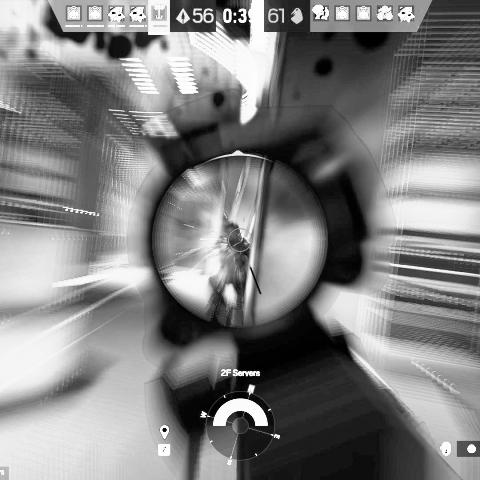Character: (206, 222, 252, 327)
Head: (225, 223, 242, 242)
